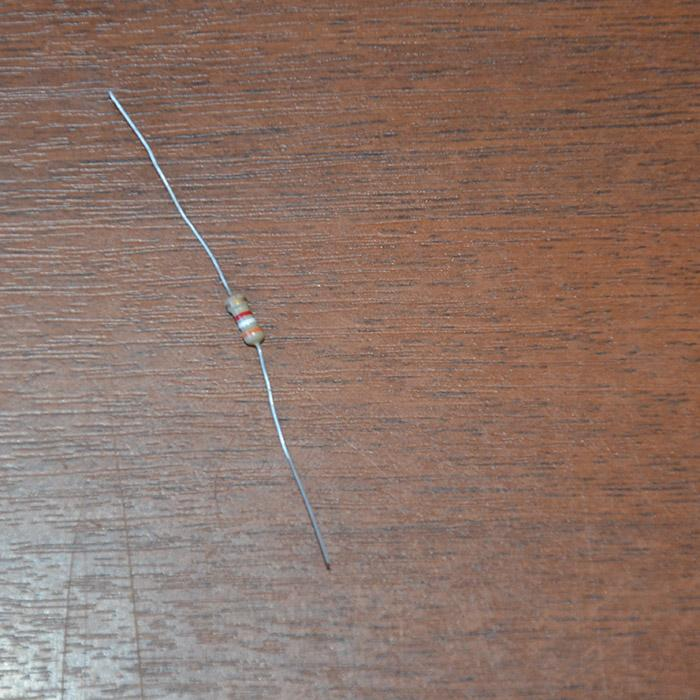resistor: (223, 293, 266, 348)
